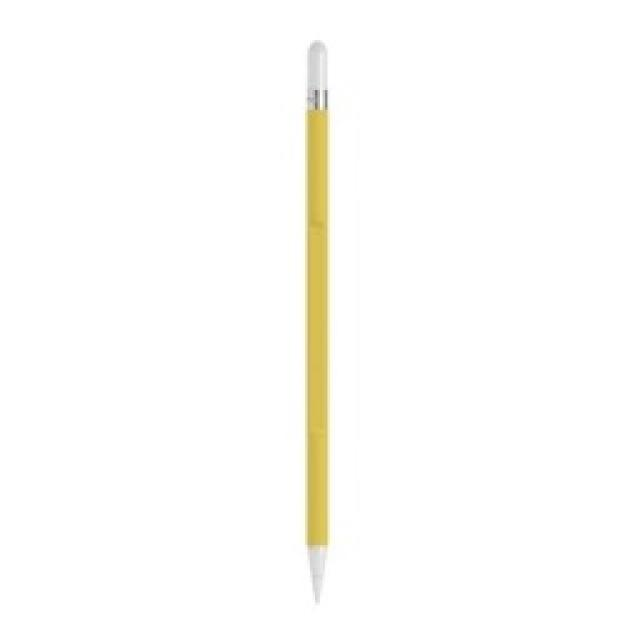pencil: (300, 38, 332, 602)
